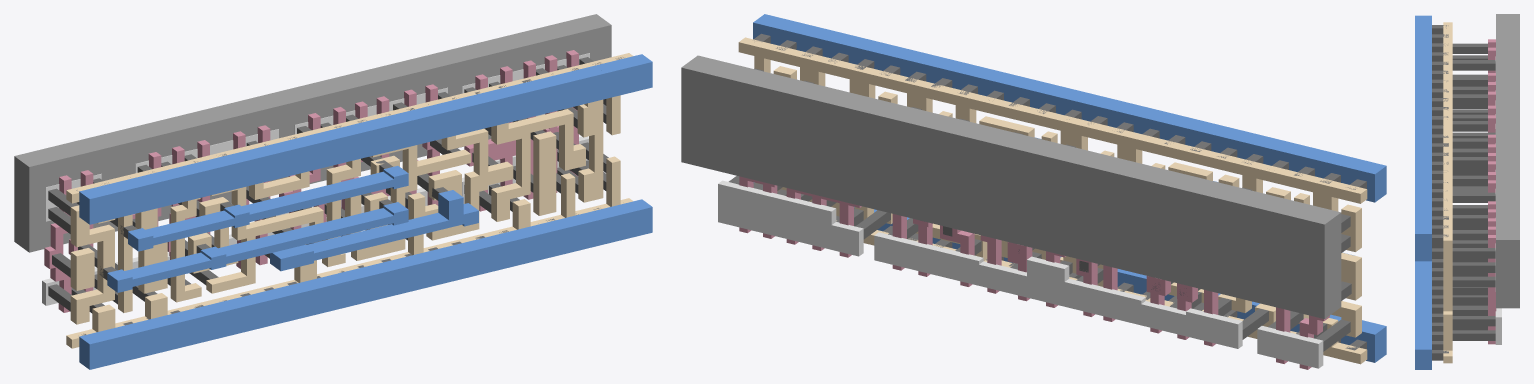
The model's file is sky130_fd_sc_hd__dfrbp_2.gds.gltf.
3 views of the same model, side by side, from view 1: azimuth 30°, elevation 25°; view 2: azimuth 150°, elevation 25°; view 3: azimuth 270°, elevation 25° (orthographic). The views are drawn at different scales.
Visible parts, largest first — view 1: sky130_fd_sc_hd__dfrbp_2_met1, sky130_fd_sc_hd__dfrbp_2_li1, sky130_fd_sc_hd__dfrbp_2_nwell, sky130_fd_sc_hd__dfrbp_2_poly, sky130_fd_sc_hd__dfrbp_2_licon, sky130_fd_sc_hd__dfrbp_2_diff, sky130_fd_sc_hd__dfrbp_2_mcon; view 2: sky130_fd_sc_hd__dfrbp_2_nwell, sky130_fd_sc_hd__dfrbp_2_li1, sky130_fd_sc_hd__dfrbp_2_diff, sky130_fd_sc_hd__dfrbp_2_met1, sky130_fd_sc_hd__dfrbp_2_poly, sky130_fd_sc_hd__dfrbp_2_licon, sky130_fd_sc_hd__dfrbp_2_mcon; view 3: sky130_fd_sc_hd__dfrbp_2_licon, sky130_fd_sc_hd__dfrbp_2_nwell, sky130_fd_sc_hd__dfrbp_2_met1, sky130_fd_sc_hd__dfrbp_2_mcon, sky130_fd_sc_hd__dfrbp_2_li1, sky130_fd_sc_hd__dfrbp_2_poly, sky130_fd_sc_hd__dfrbp_2_diff.
Part boxes in pixels (x1=…): sky130_fd_sc_hd__dfrbp_2_met1: x1=79, y1=54, x2=652, y2=369; sky130_fd_sc_hd__dfrbp_2_li1: x1=66, y1=53, x2=633, y2=348; sky130_fd_sc_hd__dfrbp_2_nwell: x1=14, y1=14, x2=611, y2=252; sky130_fd_sc_hd__dfrbp_2_poly: x1=44, y1=50, x2=578, y2=312; sky130_fd_sc_hd__dfrbp_2_licon: x1=48, y1=57, x2=608, y2=313; sky130_fd_sc_hd__dfrbp_2_diff: x1=42, y1=53, x2=589, y2=305; sky130_fd_sc_hd__dfrbp_2_mcon: x1=76, y1=57, x2=623, y2=335; sky130_fd_sc_hd__dfrbp_2_nwell: x1=681, y1=55, x2=1341, y2=318; sky130_fd_sc_hd__dfrbp_2_li1: x1=738, y1=37, x2=1367, y2=364; sky130_fd_sc_hd__dfrbp_2_diff: x1=718, y1=180, x2=1323, y2=368; sky130_fd_sc_hd__dfrbp_2_met1: x1=753, y1=14, x2=1386, y2=362; sky130_fd_sc_hd__dfrbp_2_poly: x1=739, y1=176, x2=1329, y2=369; sky130_fd_sc_hd__dfrbp_2_licon: x1=728, y1=68, x2=1351, y2=351; sky130_fd_sc_hd__dfrbp_2_mcon: x1=753, y1=33, x2=1366, y2=350; sky130_fd_sc_hd__dfrbp_2_licon: x1=1452, y1=43, x2=1495, y2=340; sky130_fd_sc_hd__dfrbp_2_nwell: x1=1496, y1=14, x2=1519, y2=308; sky130_fd_sc_hd__dfrbp_2_met1: x1=1415, y1=15, x2=1431, y2=369; sky130_fd_sc_hd__dfrbp_2_mcon: x1=1432, y1=25, x2=1448, y2=360; sky130_fd_sc_hd__dfrbp_2_li1: x1=1443, y1=22, x2=1452, y2=363; sky130_fd_sc_hd__dfrbp_2_poly: x1=1488, y1=39, x2=1496, y2=344; sky130_fd_sc_hd__dfrbp_2_diff: x1=1495, y1=56, x2=1501, y2=344.
Size of the model in its own units: 11.42 by 3.2 by 2.24.
